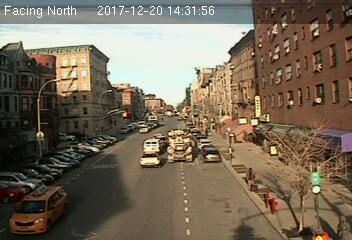car: (8, 180, 69, 236), (138, 150, 162, 168), (142, 138, 164, 155), (202, 147, 221, 163)
truck: (167, 129, 195, 162)
